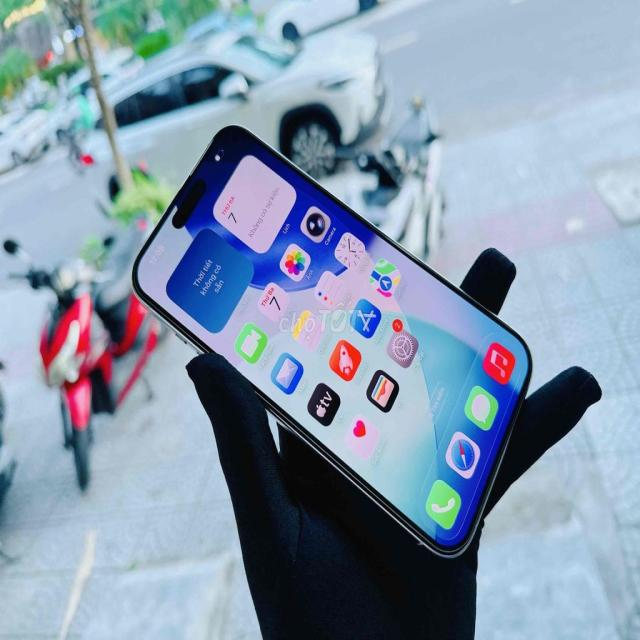gen_15: (130, 118, 538, 571)
